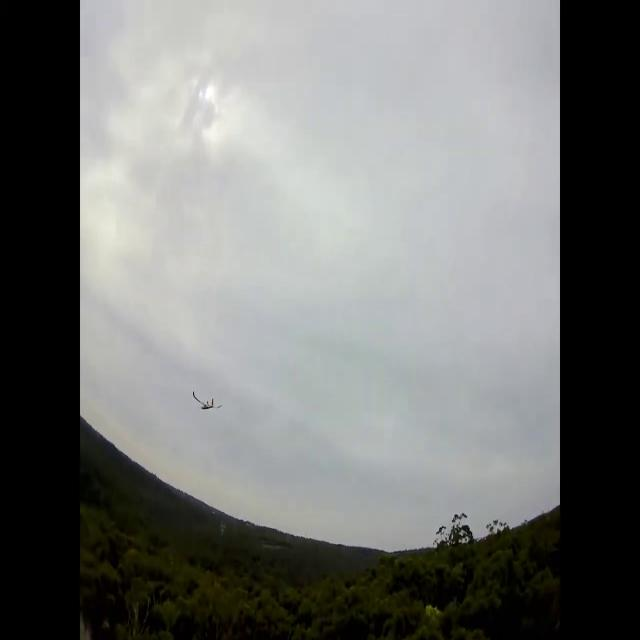iha: (193, 392, 225, 411)
